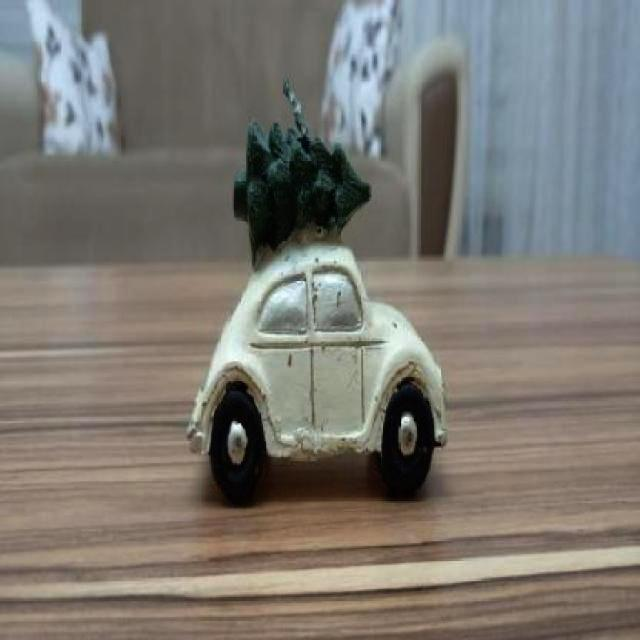car: (177, 238, 451, 497)
